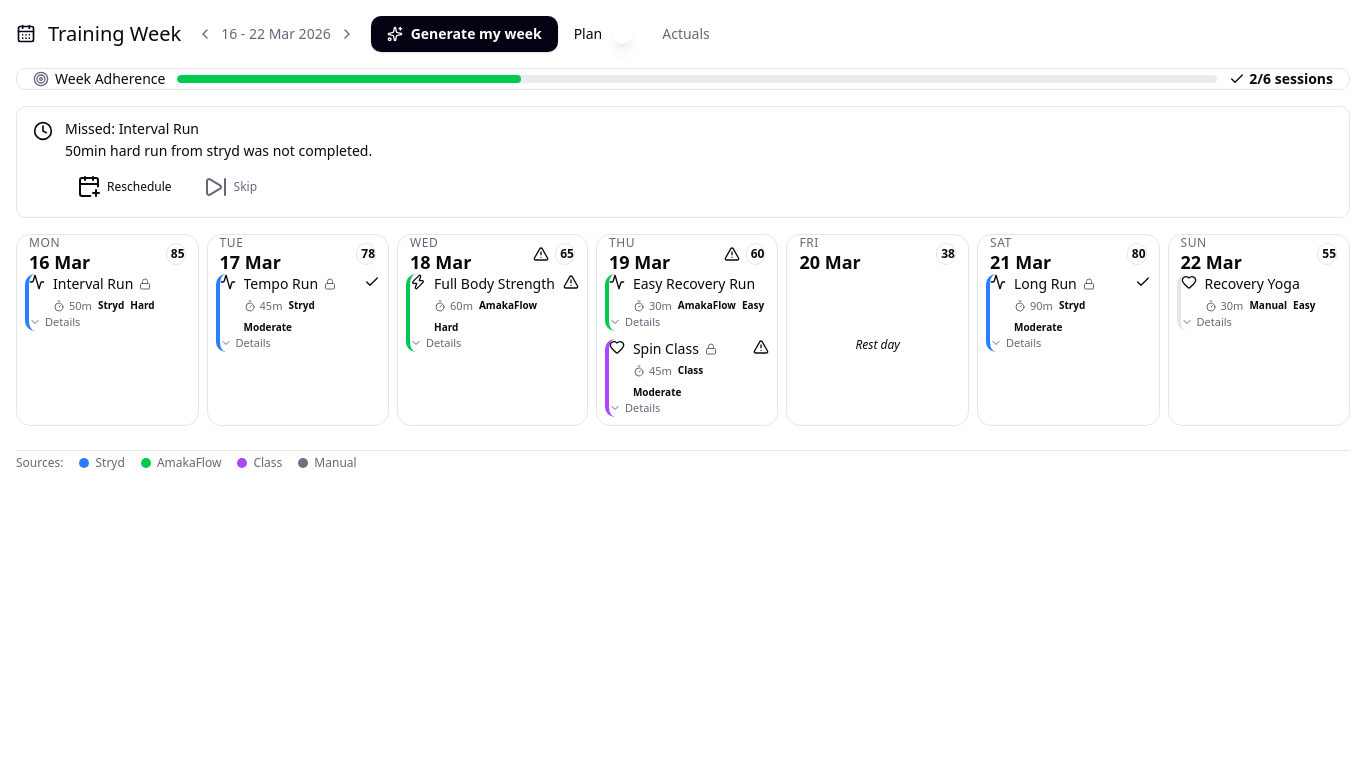
Test: TrainingWeekView › shows conflict warning banner after generating and applying plan
Click the button with test id "generate-week-btn": click(464, 34) [371, 16, 558, 52]
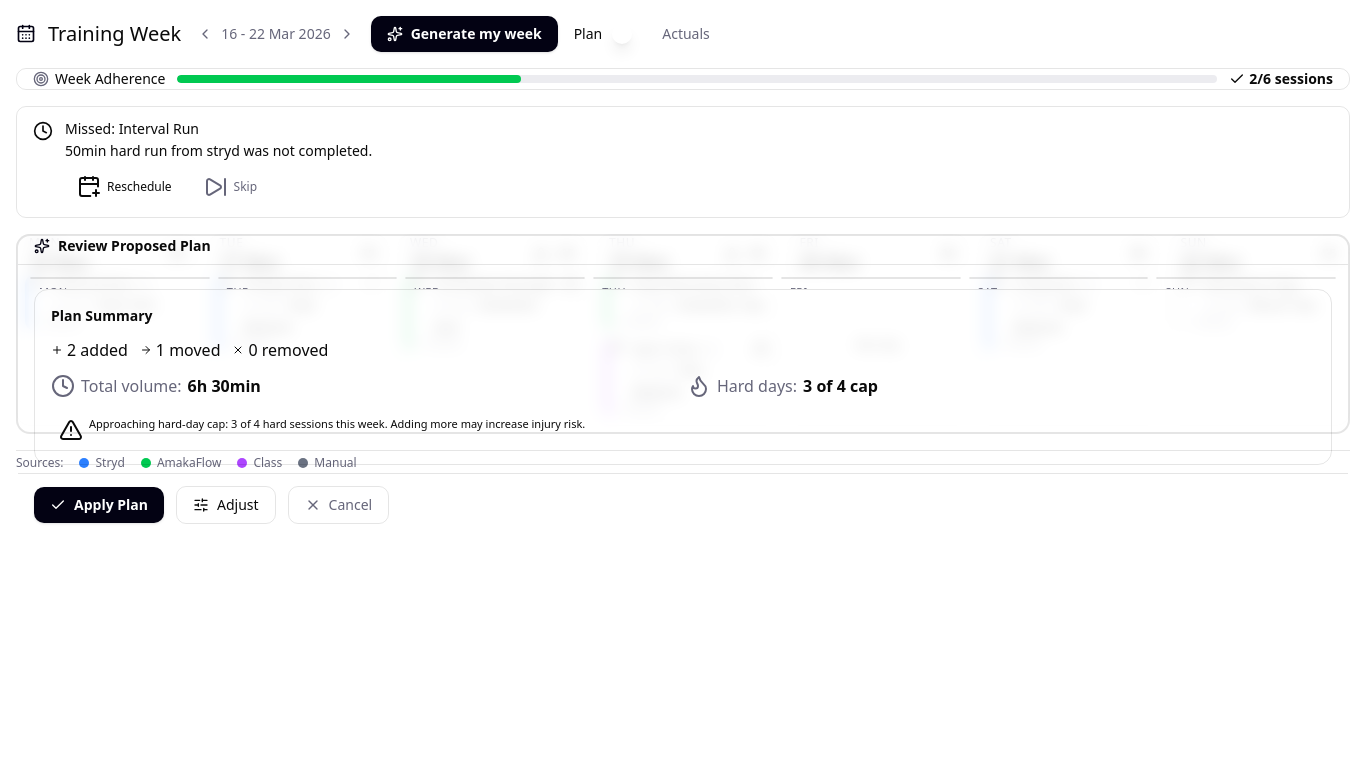
Expected: the button with test id "apply-plan-btn" is shown
Click the button with test id "apply-plan-btn": click(99, 505) [34, 487, 164, 523]
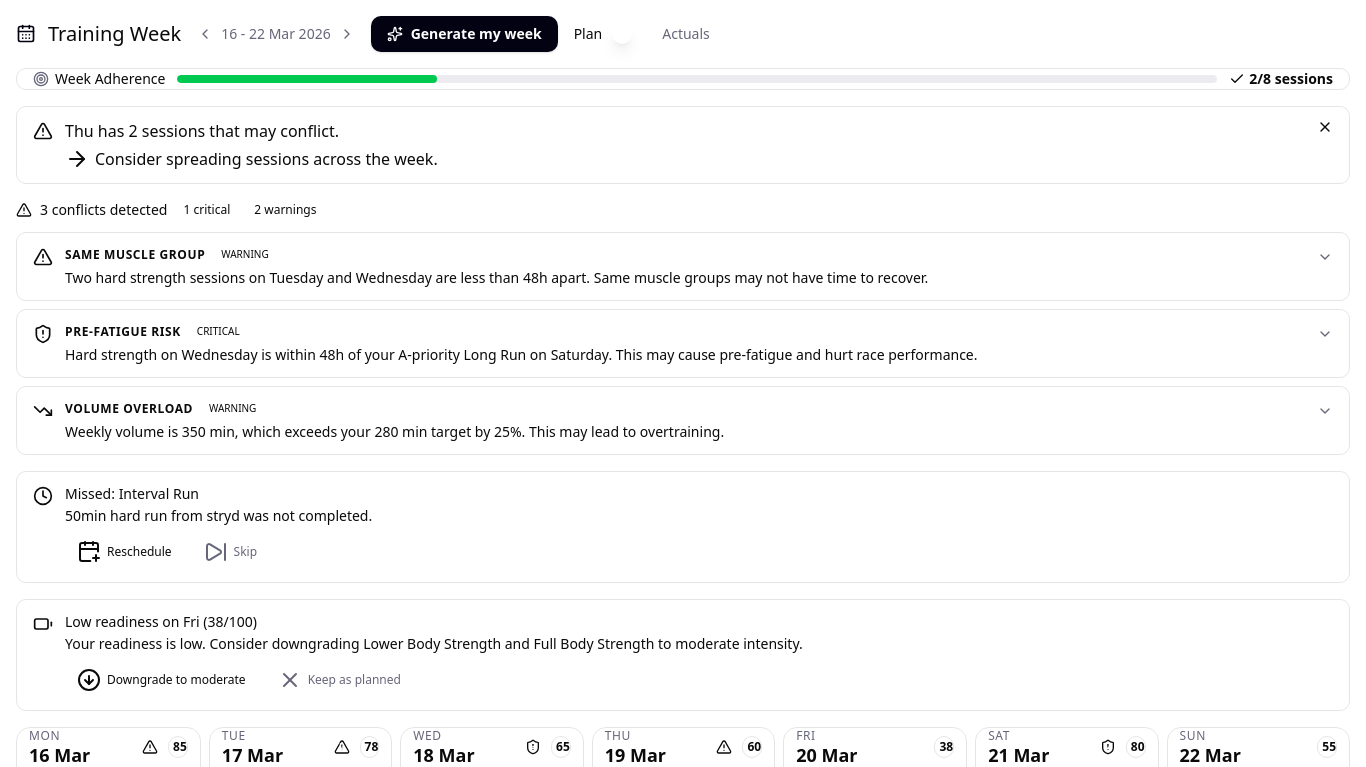
Expected: the element with test id "conflict-warning-0" is shown, [16, 106, 1350, 184]
